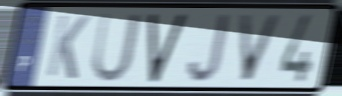4: (277, 11, 316, 87)
J: (186, 11, 232, 85)
K: (44, 13, 91, 82)
U: (89, 10, 144, 85)
V: (237, 13, 284, 84), (147, 11, 190, 85)
